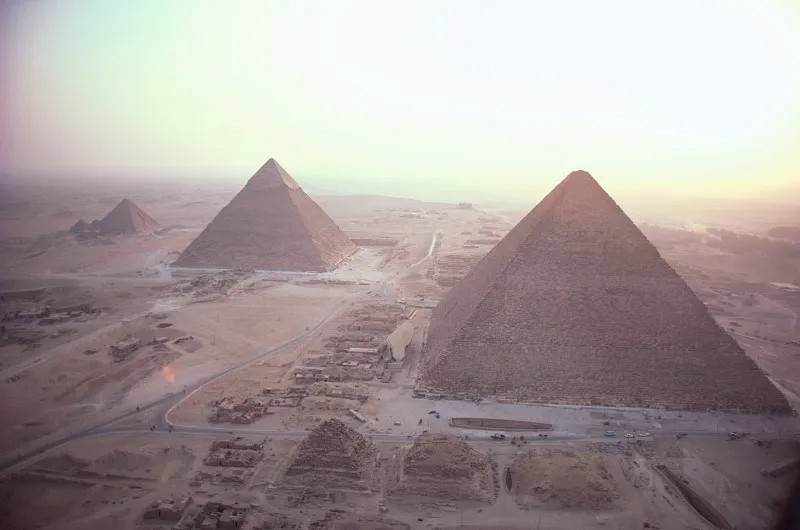Pyramid: (418, 171, 794, 414), (172, 157, 359, 275), (92, 200, 161, 232)
